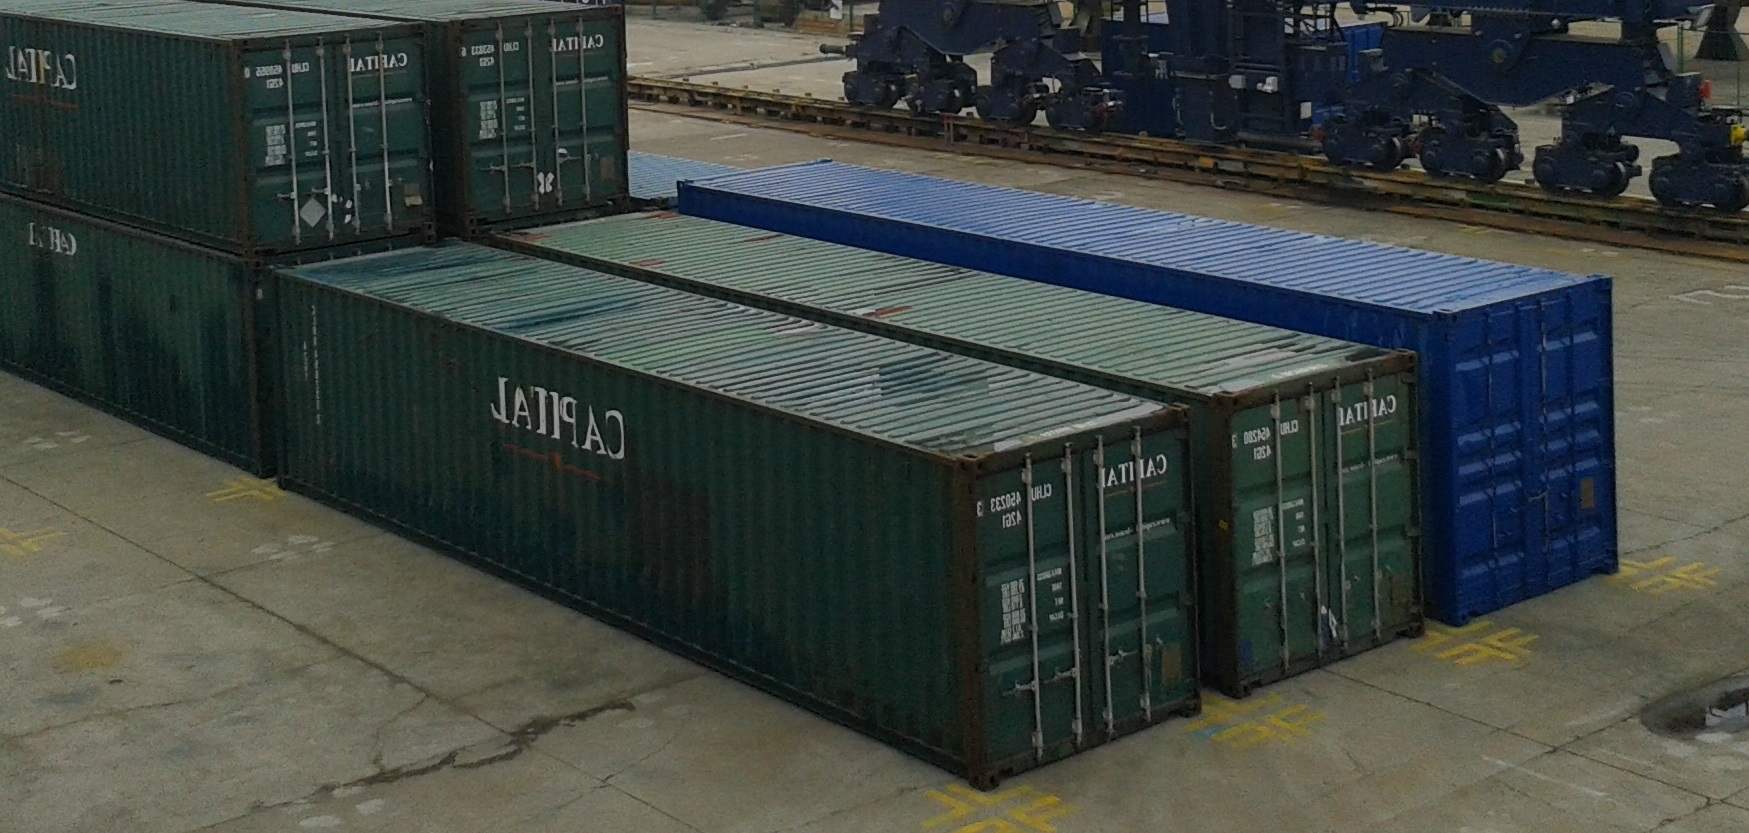container_door: (948, 396, 1194, 784), (1218, 349, 1428, 699), (1444, 285, 1625, 614), (210, 21, 433, 271), (455, 9, 630, 249)
